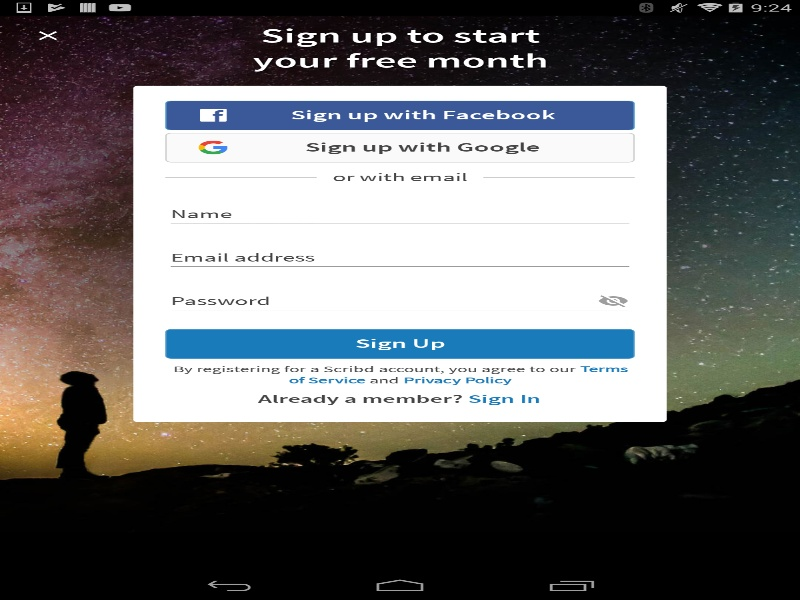Button: (165, 100, 634, 130), (165, 132, 634, 162), (165, 329, 634, 358), (258, 391, 541, 407), (10, 15, 85, 55), (592, 287, 634, 315)
Input: (165, 200, 634, 228), (165, 243, 634, 271), (165, 287, 634, 315)
